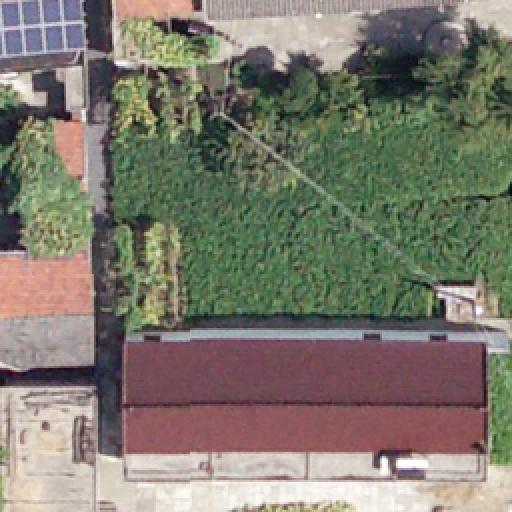solar-panel: (0, 0, 101, 71)
